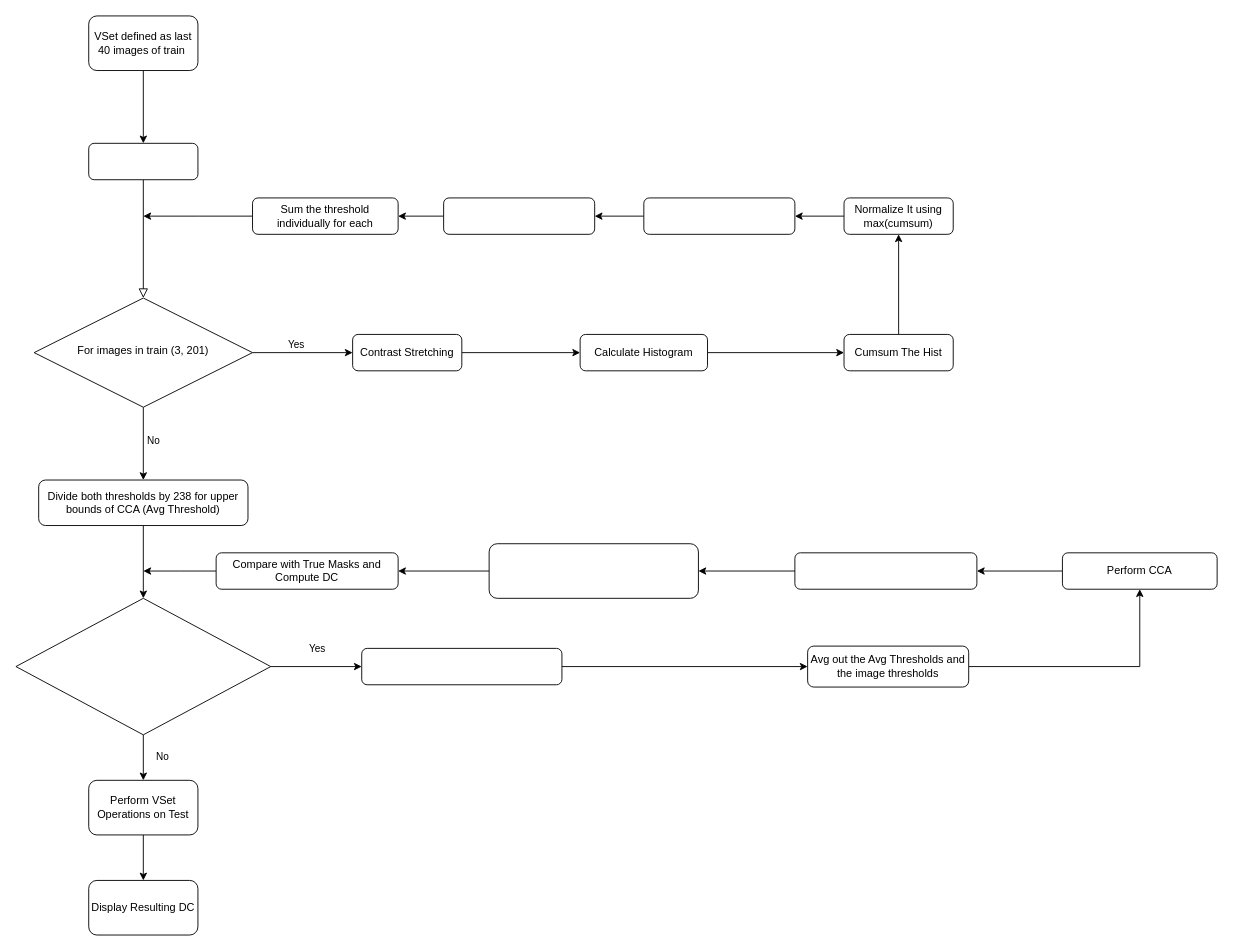
Image size: 1233x951. Some labels were removed from this diagram. Here are the shapes that lost their labels. From the top down, the box of each, then its label:
(88, 142, 198, 180): Load Image from remaining images
(443, 197, 595, 234): Find nucleus threshold at first value of 0.125
(643, 197, 795, 234): Find cytoplasm threshold at first value of 0.5
(488, 543, 698, 598): Only keep labels of Cyto which overlap with labels of Nucleus
(794, 552, 977, 589): Turn Cyto To Grey and Nucleus To White
(15, 597, 271, 735): For images in that are classified as Vset
(361, 647, 562, 685): Calculate Threshold of that image as done before
